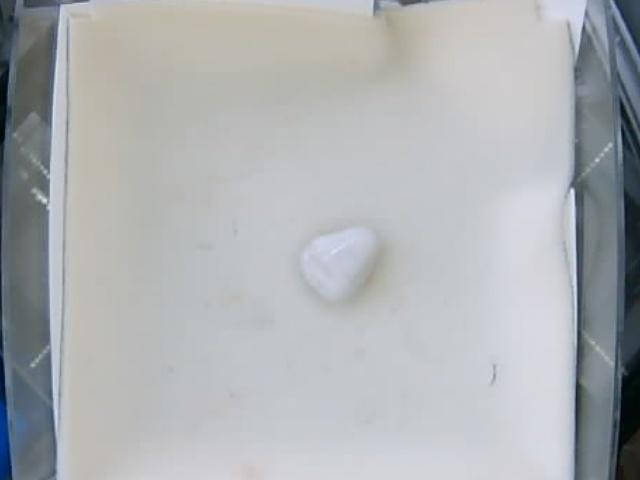Pebble: (299, 227, 381, 305)
